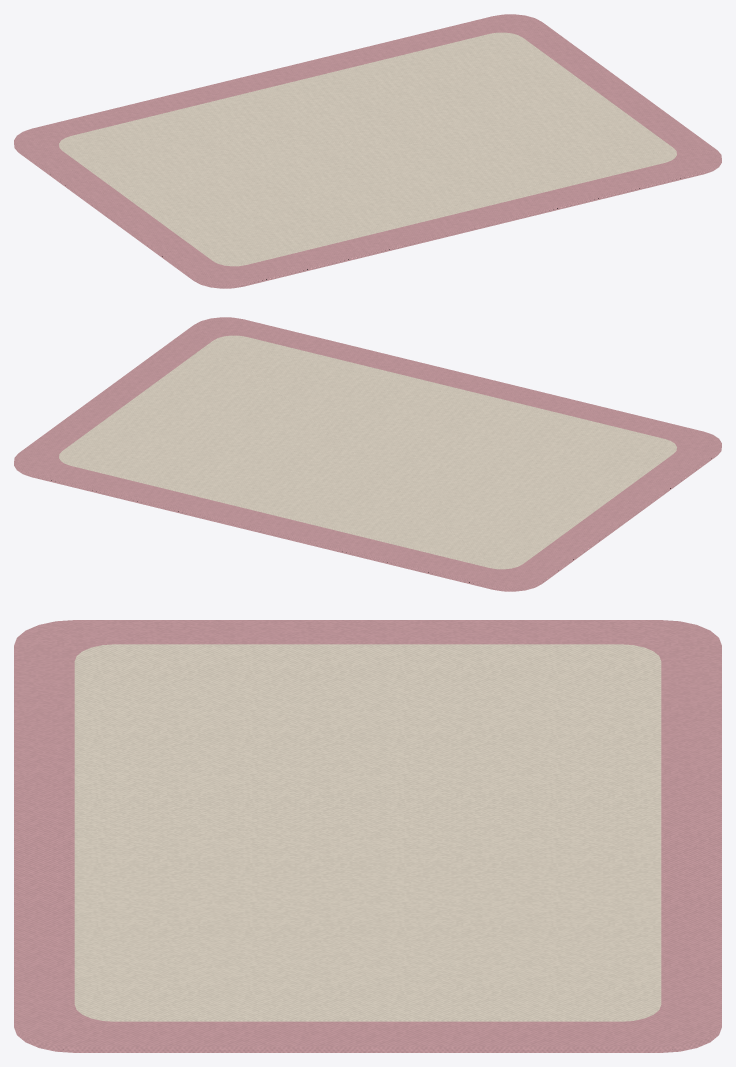
Rendered from prop_rug.glb.
The picture shows the model from 3 angles, top to bottom: view 1: azimuth 30°, elevation 25°; view 2: azimuth 150°, elevation 25°; view 3: azimuth 270°, elevation 25°; orthographic projection. The views are drawn at different scales.
Visible parts, largest first — view 1: prop_rug; view 2: prop_rug; view 3: prop_rug.
Boxes of the visible parts, bbox=[...] form: prop_rug: bbox=[14, 14, 721, 288]; prop_rug: bbox=[14, 317, 721, 591]; prop_rug: bbox=[14, 620, 721, 1052].
Bounding box in the file's own units: 2.5 × 0.0187 × 1.75.
Materials: 2 (2 with a texture image).
